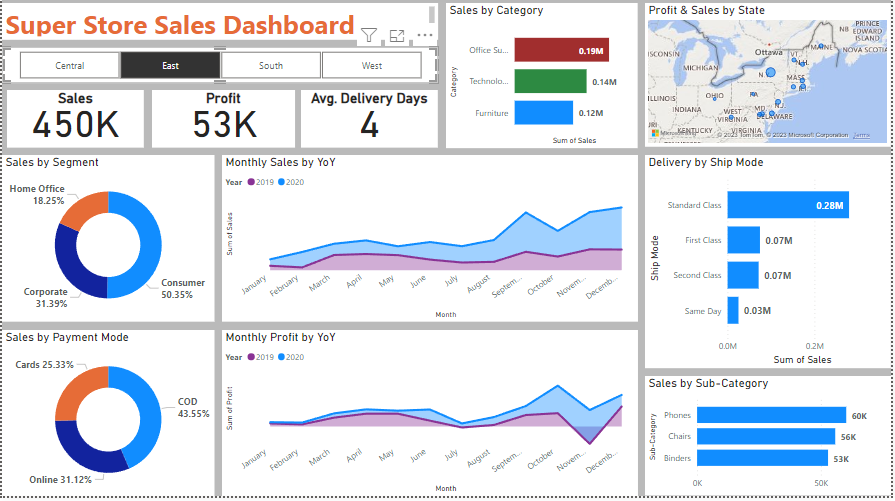

Layout of this report page (visuals, bound fields, positions):
{"tool":"powerbi","page":{"name":"Page 1","canvas":[1280,720],"ordinal":0},"visuals":[{"type":"clusteredBarChart","title":"Sales by Category","fields":{"Category":["Sheet1.Category"],"Y":["Sum(Sheet1.Sales)"]},"box":[639.4,10.1,276.5,208.8],"z":0},{"type":"clusteredBarChart","title":"Sales by Sub-Category","fields":{"Category":["Sheet1.Sub-Category"],"Y":["Sum(Sheet1.Sales)"]},"box":[925.5,547.5,355,172.5],"z":1000},{"type":"clusteredBarChart","title":"Delivery by Ship Mode","fields":{"Category":["Sheet1.Ship Mode"],"Y":["Sum(Sheet1.Sales)"]},"box":[925.9,229,354.2,306.7],"z":2000},{"type":"stackedAreaChart","title":"Monthly Sales by YoY","fields":{"Category":["Sheet1.Order Date.Variation.Date Hierarchy.Month"],"Y":["Sum(Sheet1.Sales)"],"Series":["Sheet1.Order Date.Variation.Date Hierarchy.Year"]},"box":[316.2,228.5,599.3,240],"z":3000},{"type":"stackedAreaChart","title":"Monthly Profit by YoY","fields":{"Category":["Sheet1.Order Date.Variation.Date Hierarchy.Month"],"Series":["Sheet1.Order Date.Variation.Date Hierarchy.Year"],"Y":["Sum(Sheet1.Profit)"]},"box":[316.2,481.4,599.3,238.6],"z":4000},{"type":"donutChart","title":"Sales by Payment Mode","fields":{"Category":["Sheet1.Payment Mode"],"Y":["Sum(Sheet1.Sales)"]},"box":[0,481.4,306.1,238.6],"z":5000},{"type":"donutChart","title":"Sales by Segment","fields":{"Category":["Sheet1.Segment"],"Y":["Sum(Sheet1.Sales)"]},"box":[0,228.5,306.1,240],"z":6000},{"type":"textbox","box":[0,10.1,627.8,53.3],"z":7000},{"type":"slicer","fields":{"Values":["Sheet1.Region"]},"box":[0,73.3,628,51.7],"z":8000},{"type":"card","title":"Sales","fields":{"Values":["Sum(Sheet1.Sales)"]},"box":[7.2,135.1,196.9,83.4],"z":9000},{"type":"card","title":"Profit","fields":{"Values":["Sum(Sheet1.Profit)"]},"box":[215.6,135.1,205.5,83.4],"z":10000},{"type":"card","title":"Avg. Delivery Days","fields":{"Values":["Avg(Sheet1.ADT)"]},"box":[431.1,135.1,196.9,83.4],"z":11000},{"type":"map","title":"Profit & Sales by State","fields":{"Size":["Sum(Sheet1.Profit)"],"Category":["Sheet1.State"]},"box":[925.9,10.1,354.2,207.4],"z":11001}]}

Visuals, with their boxes in screenshot pixels (x1, y1, x2, y2), scaled from the page's 1280x720 canvas onto the 895x501 screenshot:
"Sales by Category" clusteredBarChart: x1=447, y1=7, x2=640, y2=152
"Sales by Sub-Category" clusteredBarChart: x1=647, y1=381, x2=894, y2=500
"Delivery by Ship Mode" clusteredBarChart: x1=647, y1=159, x2=894, y2=373
"Monthly Sales by YoY" stackedAreaChart: x1=221, y1=159, x2=640, y2=326
"Monthly Profit by YoY" stackedAreaChart: x1=221, y1=335, x2=640, y2=500
"Sales by Payment Mode" donutChart: x1=0, y1=335, x2=214, y2=500
"Sales by Segment" donutChart: x1=0, y1=159, x2=214, y2=326
textbox: x1=0, y1=7, x2=439, y2=44
slicer - Sheet1.Region: x1=0, y1=51, x2=439, y2=87
"Sales" card: x1=5, y1=94, x2=143, y2=152
"Profit" card: x1=151, y1=94, x2=294, y2=152
"Avg. Delivery Days" card: x1=301, y1=94, x2=439, y2=152
"Profit & Sales by State" map: x1=647, y1=7, x2=894, y2=151
